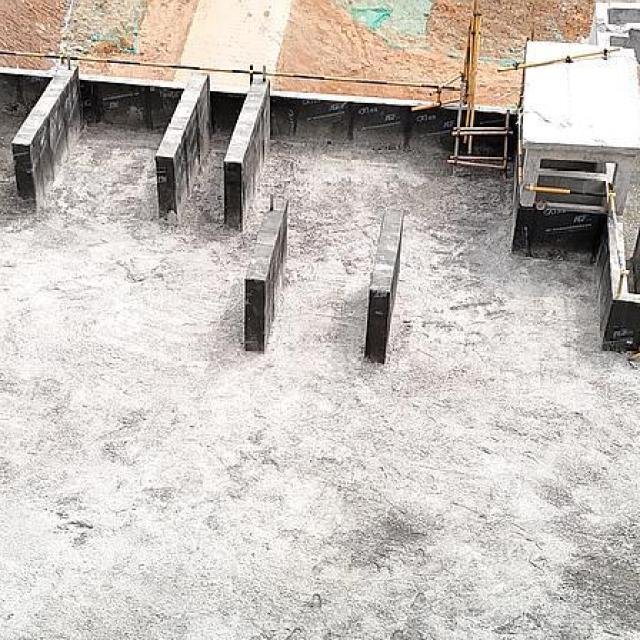Guardrail: (0, 51, 463, 110), (496, 48, 621, 73), (607, 191, 630, 296), (523, 184, 607, 199), (517, 108, 523, 186)
